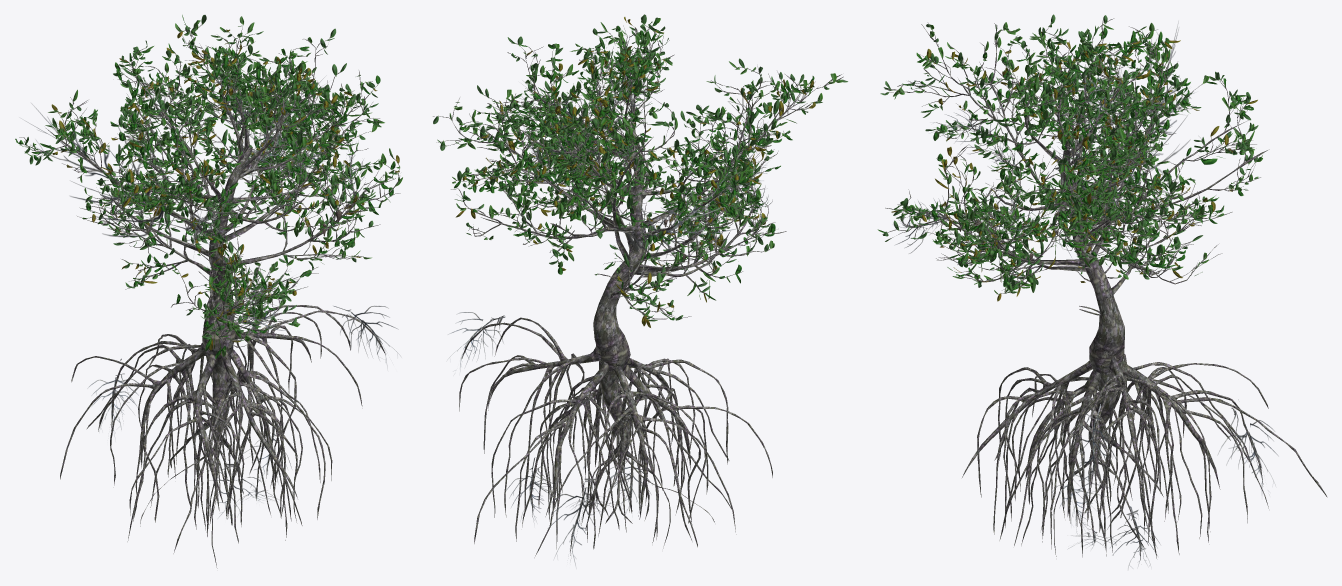
Rendered from mangrove.glb.
The picture shows the model from 3 angles, left to right: view 1: azimuth 30°, elevation 25°; view 2: azimuth 150°, elevation 25°; view 3: azimuth 270°, elevation 25°; orthographic projection. The views are drawn at different scales.
Parts seen in each view (by area): view 1: RedMangrove_Tree_w; view 2: RedMangrove_Tree_w; view 3: RedMangrove_Tree_w.
Boxes of the visible parts, x1,y1,x2,y2 form: RedMangrove_Tree_w: (15,15,402,568); RedMangrove_Tree_w: (433,14,847,565); RedMangrove_Tree_w: (877,14,1327,568).
Size of the model in its own units: 4.81 by 6.89 by 5.12.
2 materials, 2 textured.
